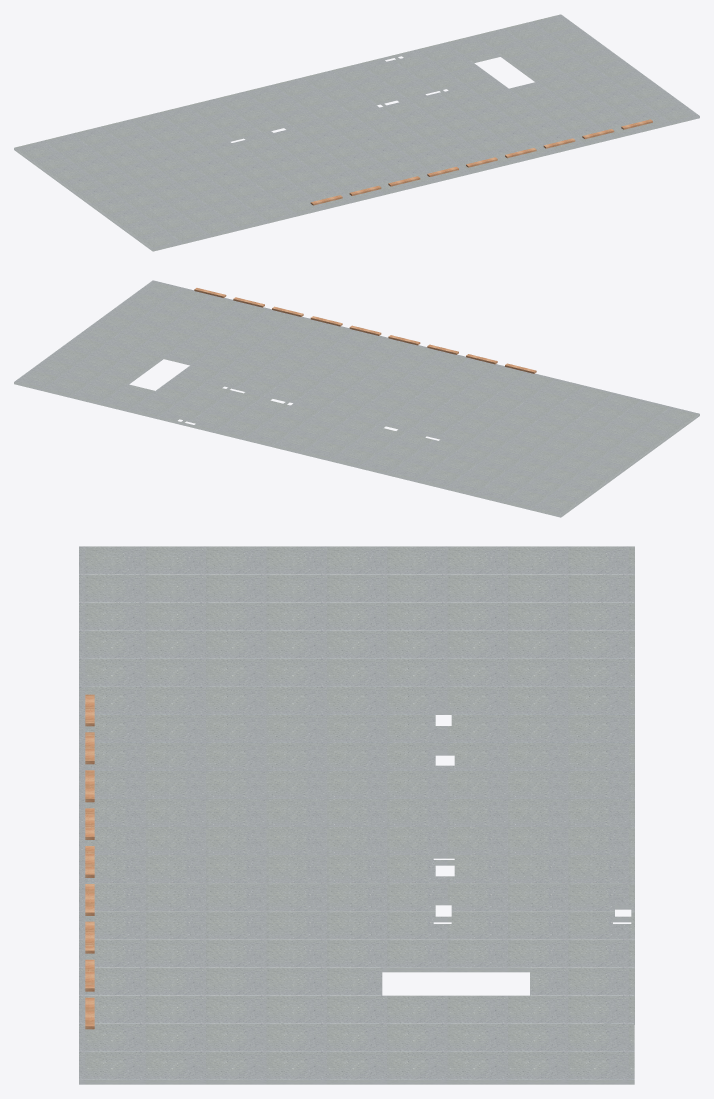
The picture shows the model from 3 angles, top to bottom: view 1: azimuth 30°, elevation 25°; view 2: azimuth 150°, elevation 25°; view 3: azimuth 270°, elevation 25°; orthographic projection. The views are drawn at different scales.
Parts seen in each view (by area): view 1: Floor [1], Floor Bench [182559]; view 2: Floor [1], Floor Bench [182559]; view 3: Floor [1], Floor Bench [182559].
Boxes of the visible parts, box(x1,y1,x2,y2) form: Floor [1]: box(14, 14, 699, 251); Floor Bench [182559]: box(310, 119, 652, 205); Floor [1]: box(14, 280, 699, 517); Floor Bench [182559]: box(194, 288, 536, 373); Floor [1]: box(79, 546, 634, 1084); Floor Bench [182559]: box(85, 694, 94, 1029).
Bounding box in the file's own units: 2109 × 25.98 × 928.
2 materials, 2 textured.
